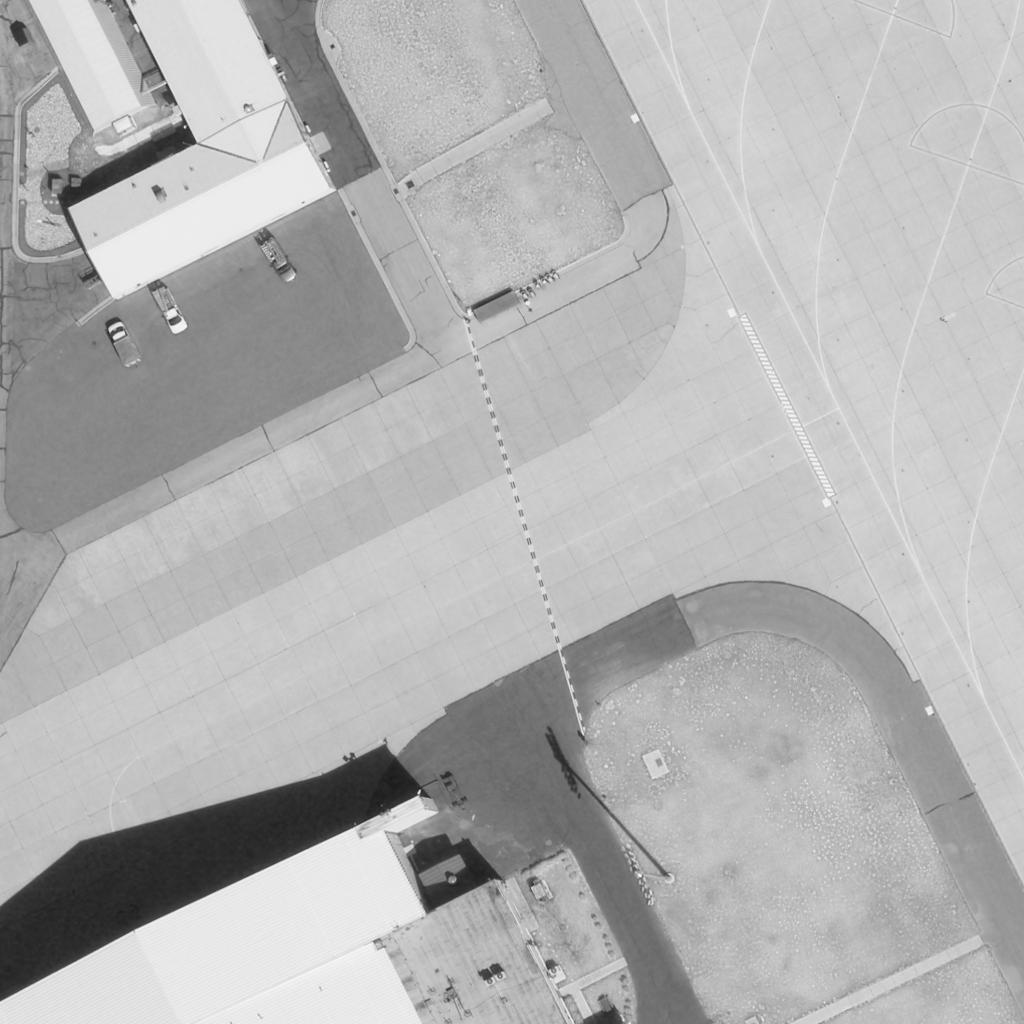vehicle: (258, 237, 300, 285), (149, 287, 189, 335), (105, 322, 141, 372)
